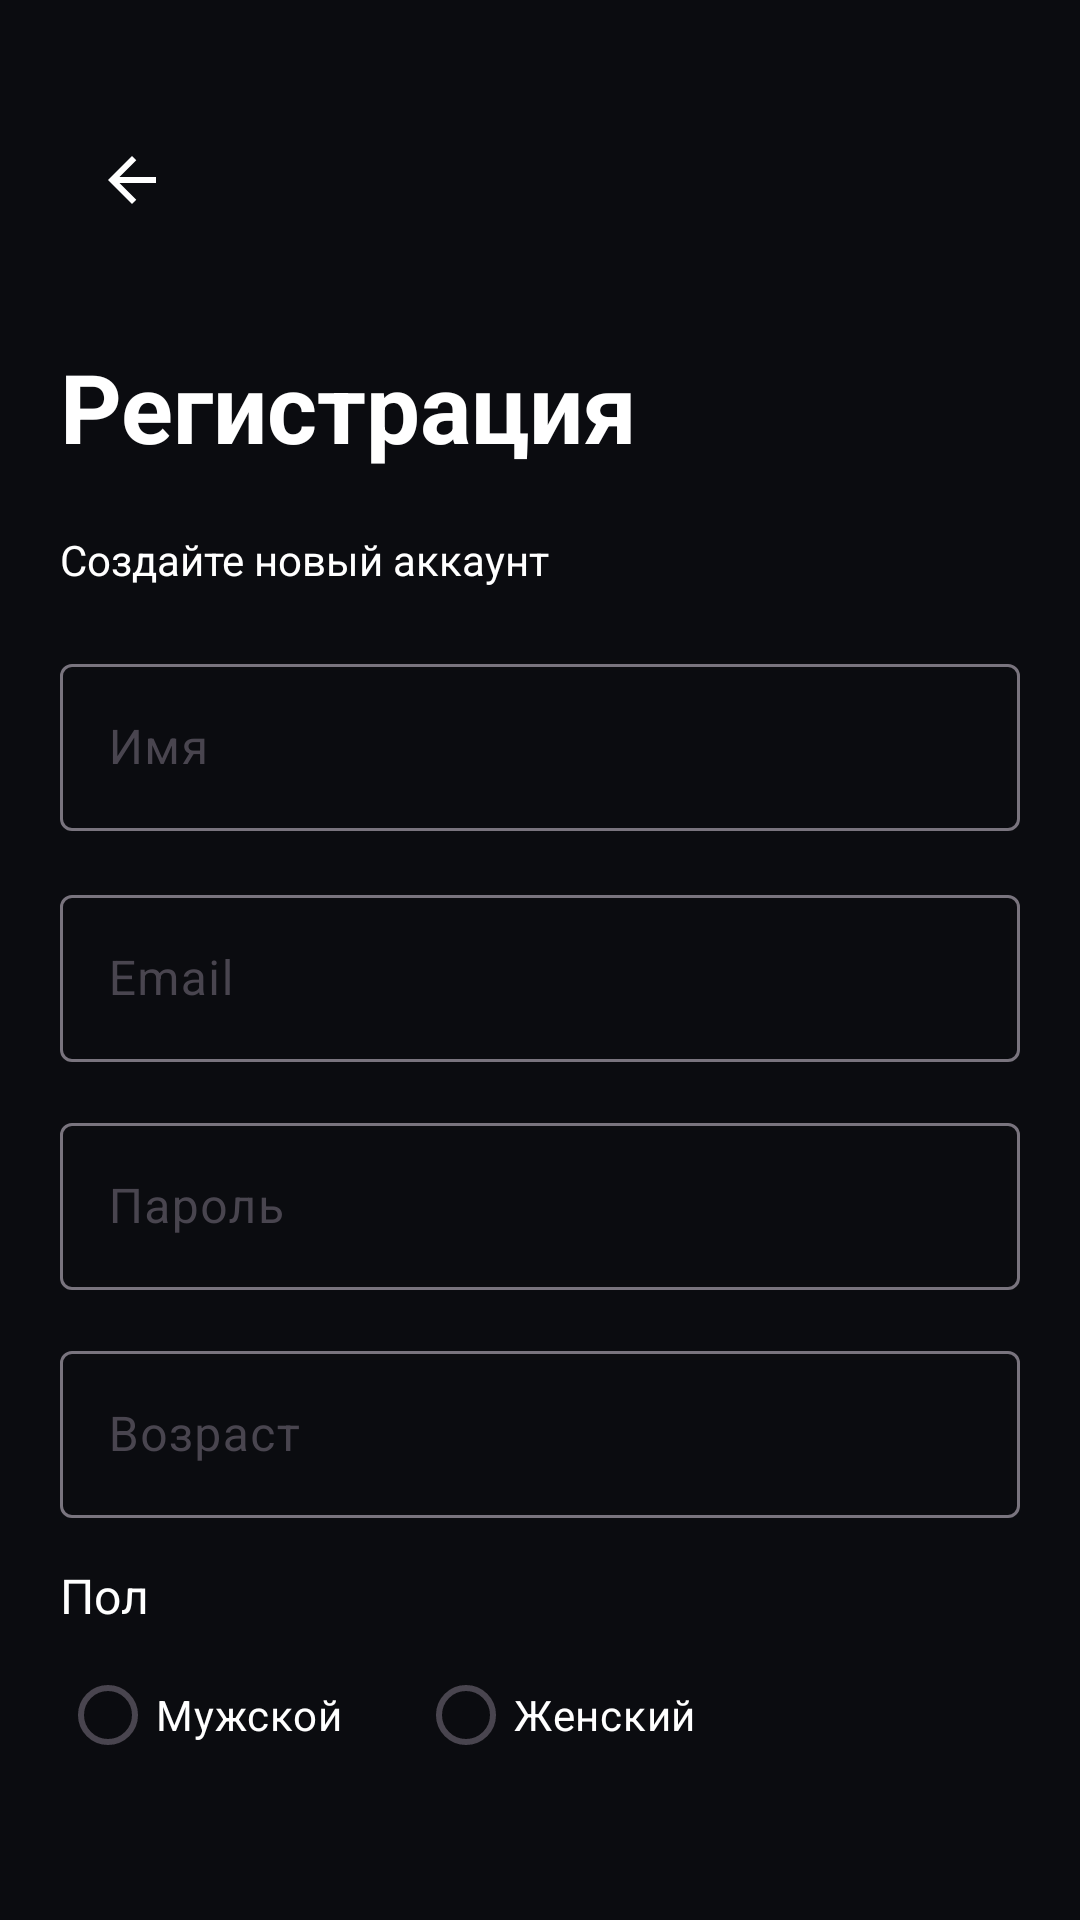

Where icons sit on this 1080x1920 app screen, as [x1=x1, y1=y1, x2=x2, y2=y2]:
Назад: [x1=108, y1=156, x2=156, y2=204]
